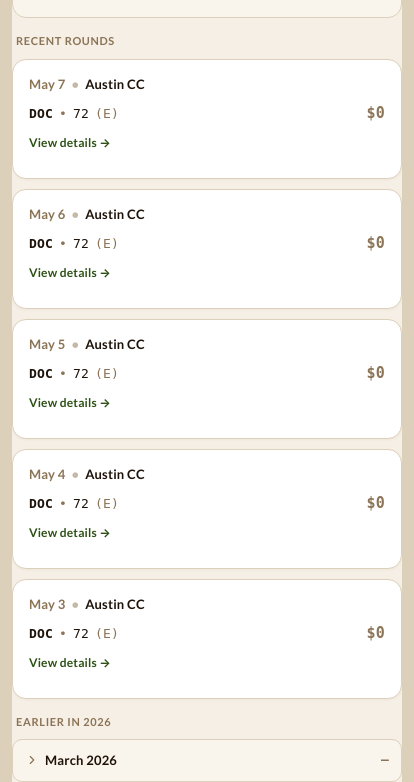
<ProfileRoundsList /> › current-year months render collapsed; tapping toggles expand and a second tap collapses
The image size is (414, 782).
(page scrolled)
Click the button with test id "month-2026-03-toggle". click: coordinates (81, 760)
box: [12,739,402,781]
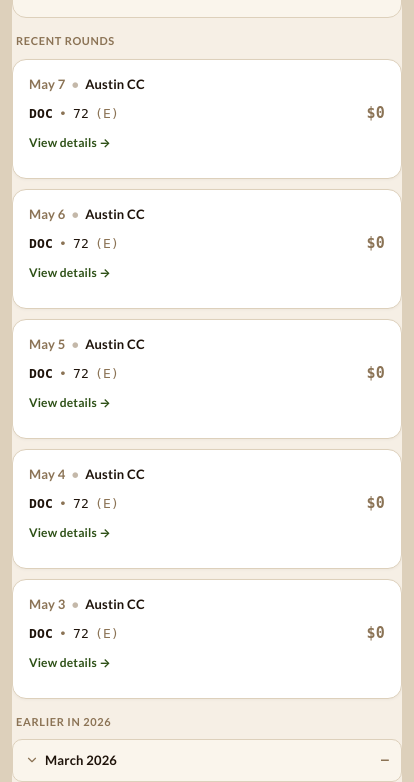
Now the button with test id "month-2026-03-toggle" is expanded
Click the button with test id "month-2026-03-toggle". click: coordinates (81, 760)
box: [12,739,402,781]
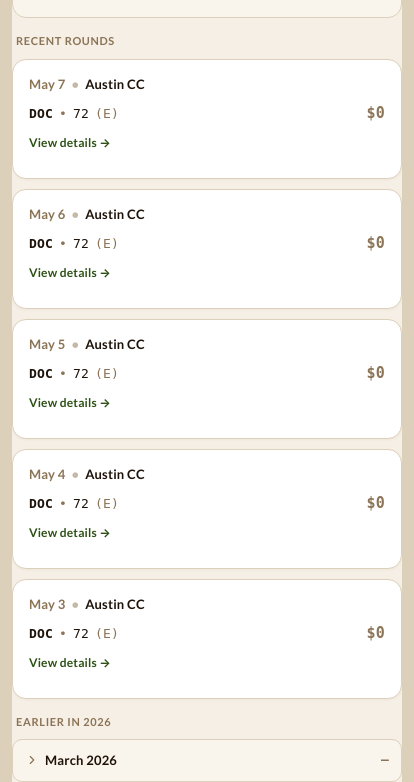
Now the button with test id "month-2026-03-toggle" is collapsed, box [12,739,402,781]
